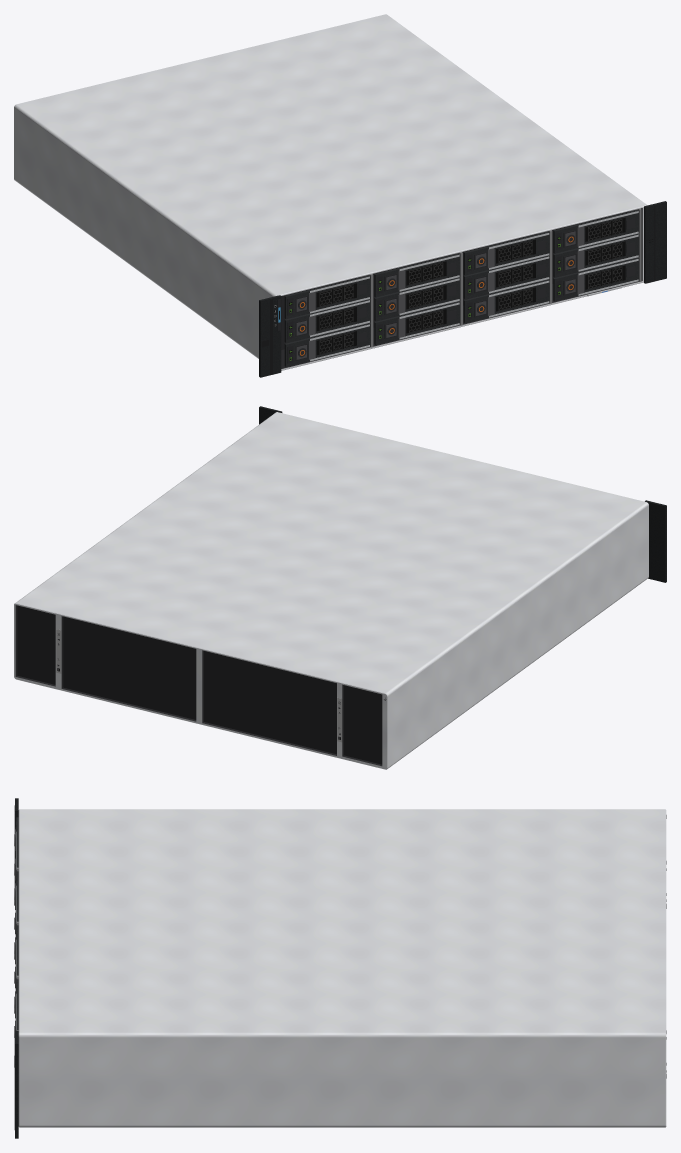
3 views of the same model, one above another, from view 1: azimuth 30°, elevation 25°; view 2: azimuth 150°, elevation 25°; view 3: azimuth 270°, elevation 25° (orthographic). The views are drawn at different scales.
Parts seen in each view (by area): view 1: Shell, Drives, Rack_Ears; view 2: Shell, empty:EMM1, empty:EMM2, Rear, empty:PSU A, empty:PSU B, Rack_Ears; view 3: Shell, Drives, Rack_Ears.
Boxes of the visible parts, x1=… form: Shell: x1=14, y1=14, x2=647, y2=370; Drives: x1=284, y1=210, x2=639, y2=366; Rack_Ears: x1=259, y1=201, x2=666, y2=377; Shell: x1=14, y1=412, x2=648, y2=769; empty:EMM1: x1=63, y1=616, x2=196, y2=719; empty:EMM2: x1=204, y1=651, x2=336, y2=754; Rear: x1=14, y1=604, x2=387, y2=769; empty:PSU A: x1=344, y1=685, x2=382, y2=764; empty:PSU B: x1=17, y1=605, x2=55, y2=684; Rack_Ears: x1=259, y1=406, x2=666, y2=582; Shell: x1=16, y1=809, x2=666, y2=1127; Drives: x1=14, y1=817, x2=18, y2=1067; Rack_Ears: x1=14, y1=798, x2=18, y2=1138.
Bounding box in the file's own units: 0.4826 × 0.0868 × 0.5425.
22 materials, 3 textured.
